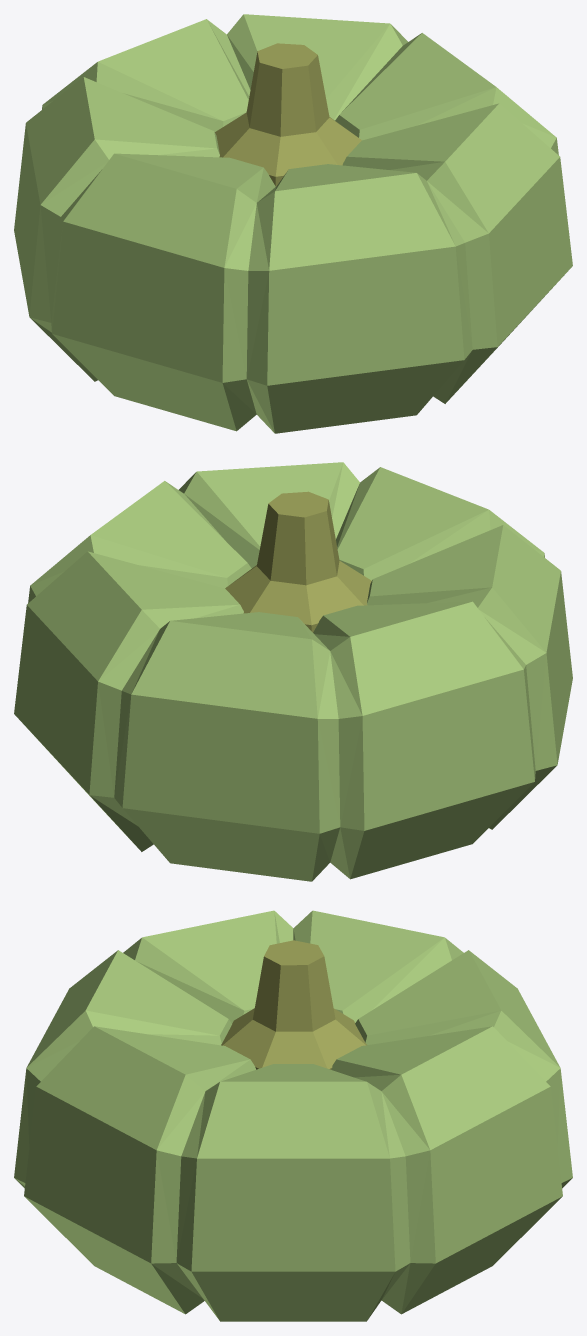
The model's file is plants_f.gltf.
3 renders of one model, top to bottom at view 1: azimuth 30°, elevation 25°; view 2: azimuth 150°, elevation 25°; view 3: azimuth 270°, elevation 25°, orthographic.
Parts seen in each view (by area): view 1: plants_f001; view 2: plants_f001; view 3: plants_f001.
Boxes of the visible parts, x1=… form: plants_f001: x1=14, y1=14, x2=572, y2=433; plants_f001: x1=14, y1=462, x2=572, y2=881; plants_f001: x1=14, y1=910, x2=572, y2=1321.
Size of the model in its own units: 0.383 by 0.221 by 0.3929.
1 material, 1 textured.
